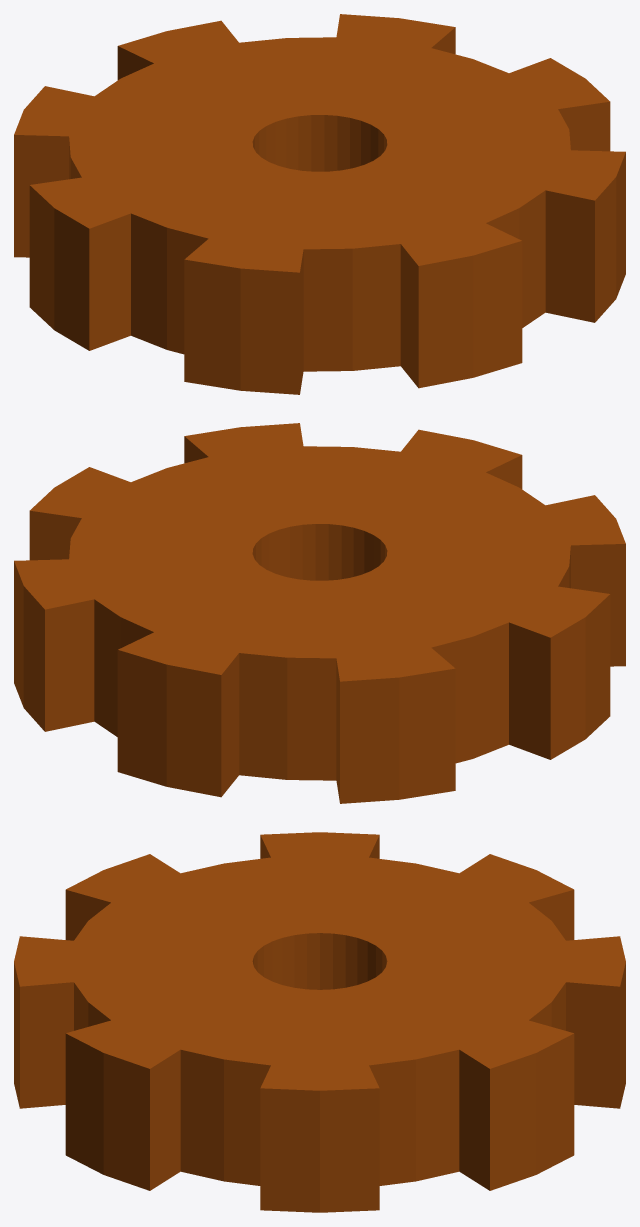
Rendered from Small gear.fbx.
3 views of the same model, one above another, from view 1: azimuth 30°, elevation 25°; view 2: azimuth 150°, elevation 25°; view 3: azimuth 270°, elevation 25° (orthographic).
Parts seen in each view (by area): view 1: Gear; view 2: Gear; view 3: Gear.
Boxes of the visible parts, x1,y1,x2,y2 form: Gear: (14,14,625,394); Gear: (14,423,625,803); Gear: (14,832,625,1212).
Size of the model in its own units: 200 by 44 by 200.
